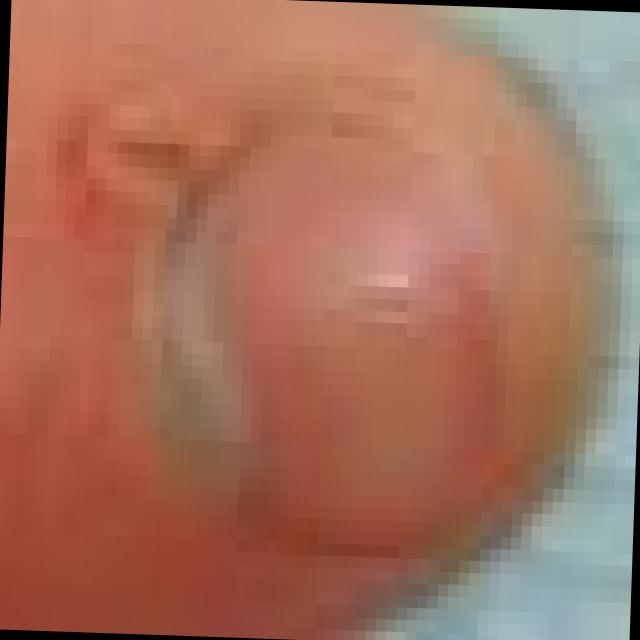Nail: (159, 89, 542, 556)
